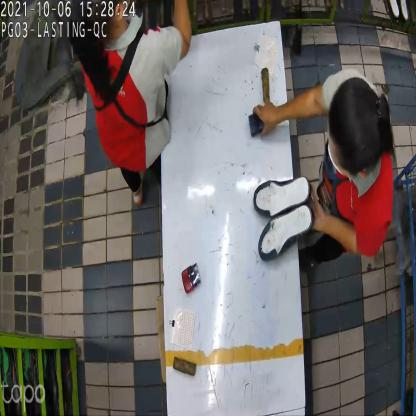shoes: (251, 177, 312, 265)
stamp: (181, 260, 202, 296), (247, 106, 266, 141)
